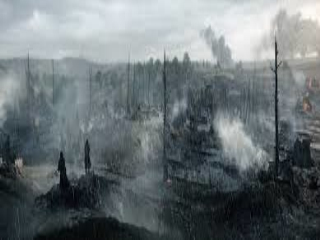smoke: (20, 81, 174, 217), (203, 107, 275, 182), (266, 11, 318, 75), (195, 20, 242, 74)
